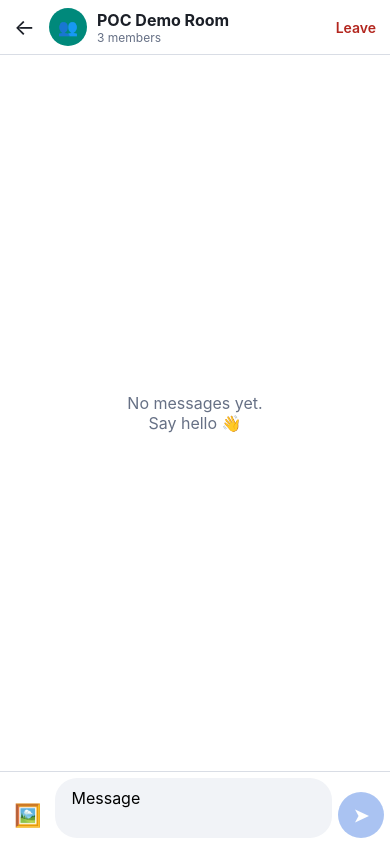
it: typing and pressing send posts the message and clears the box
Type "Hello team" into the text box with placeholder "Message".
click(194, 808); type("Hello team")  # box [56,778,332,838]
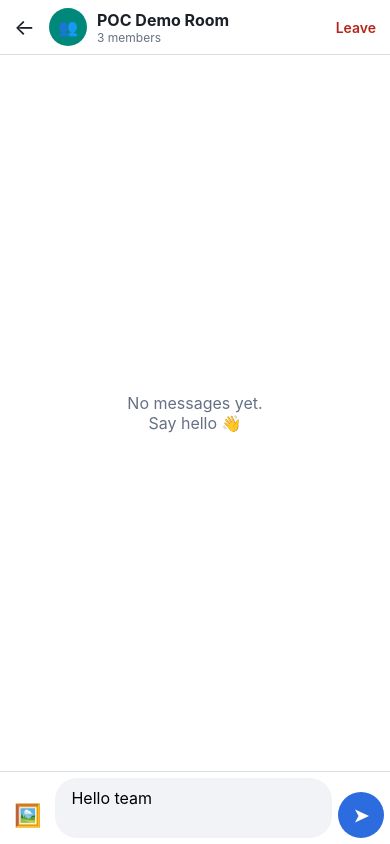
Click the element named "Send".
click(361, 815)  # box [338,792,384,838]
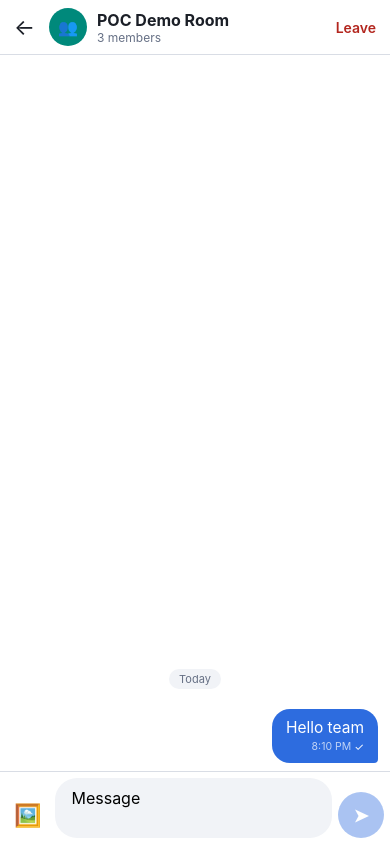
Check: the text "Hello team" is shown, box [286,718,364,737]
Check: the text box with placeholder "Message" is empty, box [56,778,332,838]
